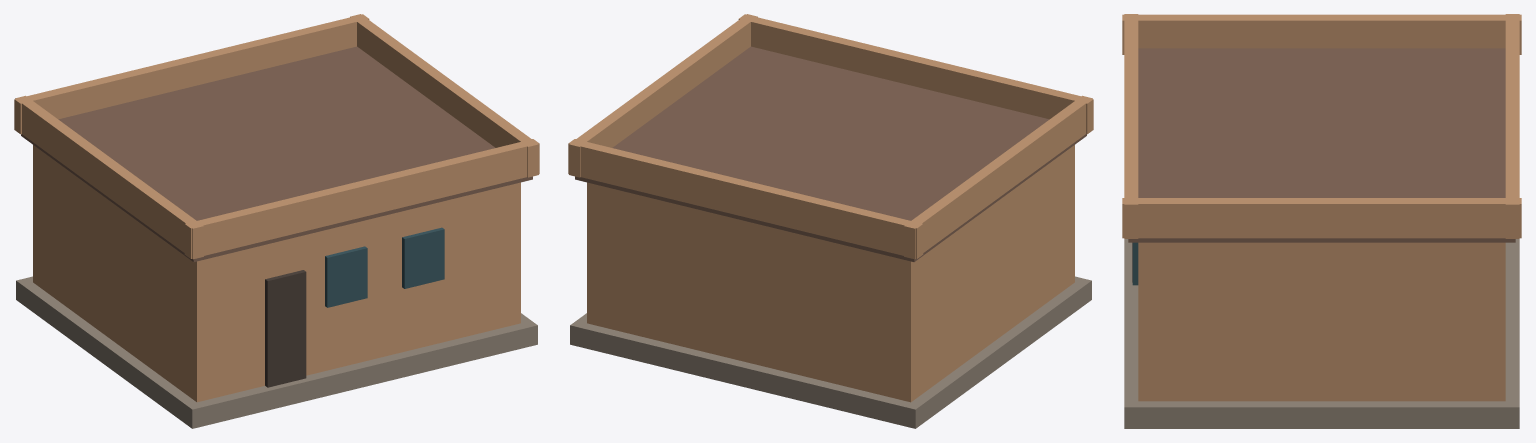
The model's file is arizona-adobe-house_lod1.glb.
The picture shows the model from 3 angles, left to right: view 1: azimuth 30°, elevation 25°; view 2: azimuth 150°, elevation 25°; view 3: azimuth 270°, elevation 25°; orthographic projection. The views are drawn at different scales.
Parts seen in each view (by area): view 1: RF_AZ_Adobe_Walls, RF_AZ_Adobe_Roof, RF_AZ_Adobe_Foundation, RF_AZ_Adobe_Parapet.002, RF_AZ_Adobe_Parapet.003, RF_AZ_Adobe_Parapet, RF_AZ_Adobe_Parapet.001, RF_AZ_Adobe_Door, RF_AZ_Adobe_Window, RF_AZ_Adobe_Window.001; view 2: RF_AZ_Adobe_Walls, RF_AZ_Adobe_Roof, RF_AZ_Adobe_Foundation, RF_AZ_Adobe_Parapet.003, RF_AZ_Adobe_Parapet.002, RF_AZ_Adobe_Parapet, RF_AZ_Adobe_Parapet.001; view 3: RF_AZ_Adobe_Walls, RF_AZ_Adobe_Roof, RF_AZ_Adobe_Foundation, RF_AZ_Adobe_Parapet.001, RF_AZ_Adobe_Parapet, RF_AZ_Adobe_Parapet.002, RF_AZ_Adobe_Parapet.003.
Part boxes in pixels (left/top/right/bottom): RF_AZ_Adobe_Walls: left=33, top=145, right=520, bottom=402; RF_AZ_Adobe_Roof: left=21, top=46, right=532, bottom=261; RF_AZ_Adobe_Foundation: left=16, top=276, right=537, bottom=428; RF_AZ_Adobe_Parapet.002: left=184, top=139, right=539, bottom=258; RF_AZ_Adobe_Parapet.003: left=14, top=14, right=369, bottom=134; RF_AZ_Adobe_Parapet: left=15, top=95, right=203, bottom=259; RF_AZ_Adobe_Parapet.001: left=350, top=14, right=538, bottom=177; RF_AZ_Adobe_Door: left=265, top=270, right=306, bottom=387; RF_AZ_Adobe_Window: left=325, top=246, right=367, bottom=307; RF_AZ_Adobe_Window.001: left=402, top=227, right=444, bottom=288; RF_AZ_Adobe_Walls: left=587, top=145, right=1074, bottom=402; RF_AZ_Adobe_Roof: left=575, top=46, right=1086, bottom=261; RF_AZ_Adobe_Foundation: left=570, top=276, right=1091, bottom=428; RF_AZ_Adobe_Parapet.003: left=568, top=139, right=923, bottom=258; RF_AZ_Adobe_Parapet.002: left=738, top=14, right=1093, bottom=134; RF_AZ_Adobe_Parapet: left=904, top=95, right=1092, bottom=259; RF_AZ_Adobe_Parapet.001: left=569, top=14, right=757, bottom=177; RF_AZ_Adobe_Walls: left=1138, top=242, right=1505, bottom=401; RF_AZ_Adobe_Roof: left=1128, top=48, right=1515, bottom=242; RF_AZ_Adobe_Foundation: left=1124, top=239, right=1519, bottom=428; RF_AZ_Adobe_Parapet.001: left=1122, top=198, right=1521, bottom=238; RF_AZ_Adobe_Parapet: left=1122, top=14, right=1521, bottom=54; RF_AZ_Adobe_Parapet.002: left=1124, top=14, right=1138, bottom=238; RF_AZ_Adobe_Parapet.003: left=1505, top=14, right=1519, bottom=238.
Size of the model in its own units: 11.3 by 6.22 by 10.
